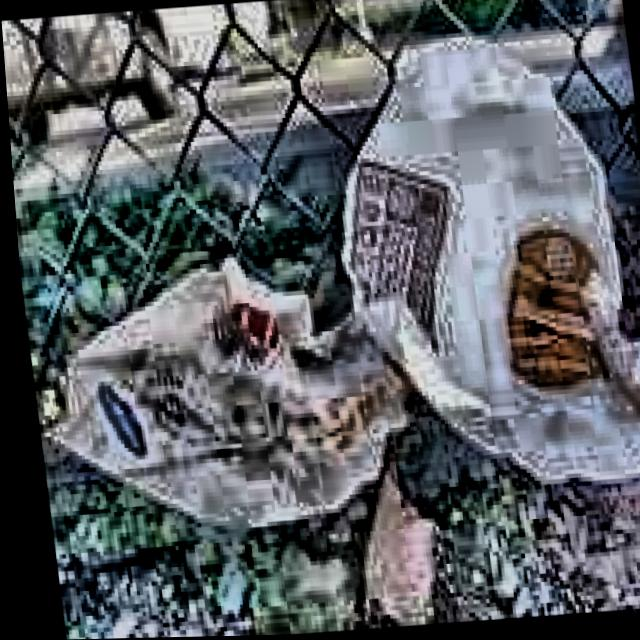Plastic: (307, 6, 640, 519), (27, 273, 427, 559)
